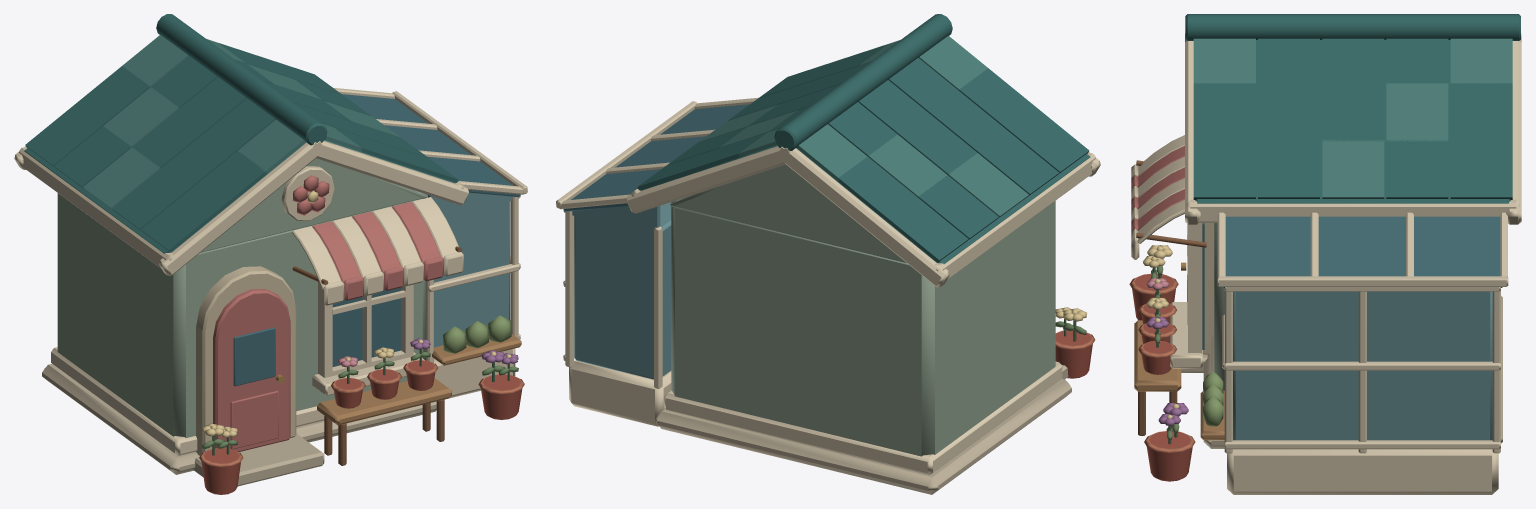
Rendered from florist_level_3.glb.
3 views of the same model, side by side, from view 1: azimuth 30°, elevation 25°; view 2: azimuth 150°, elevation 25°; view 3: azimuth 270°, elevation 25° (orthographic). The views are drawn at different scales.
Visible parts, largest first — view 1: florist_level_3_runtime; view 2: florist_level_3_runtime; view 3: florist_level_3_runtime.
Part boxes in pixels (box(x1,y1,x2,y2)): florist_level_3_runtime: box(14, 14, 527, 494); florist_level_3_runtime: box(556, 14, 1100, 494); florist_level_3_runtime: box(1129, 14, 1521, 494).
Size of the model in its own units: 4.02 by 3.33 by 3.25.
